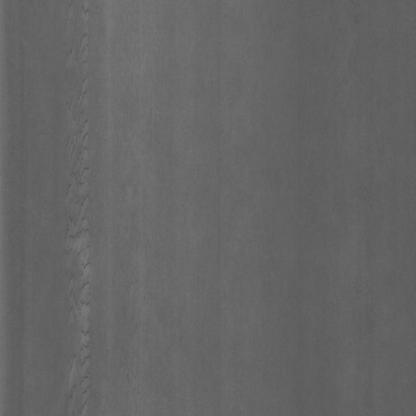silk_spot: (58, 23, 99, 396)
